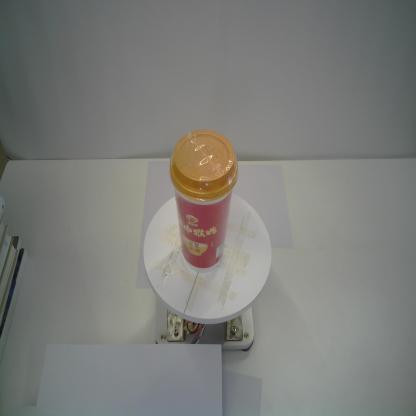Instant Drink: (169, 128, 240, 274)
